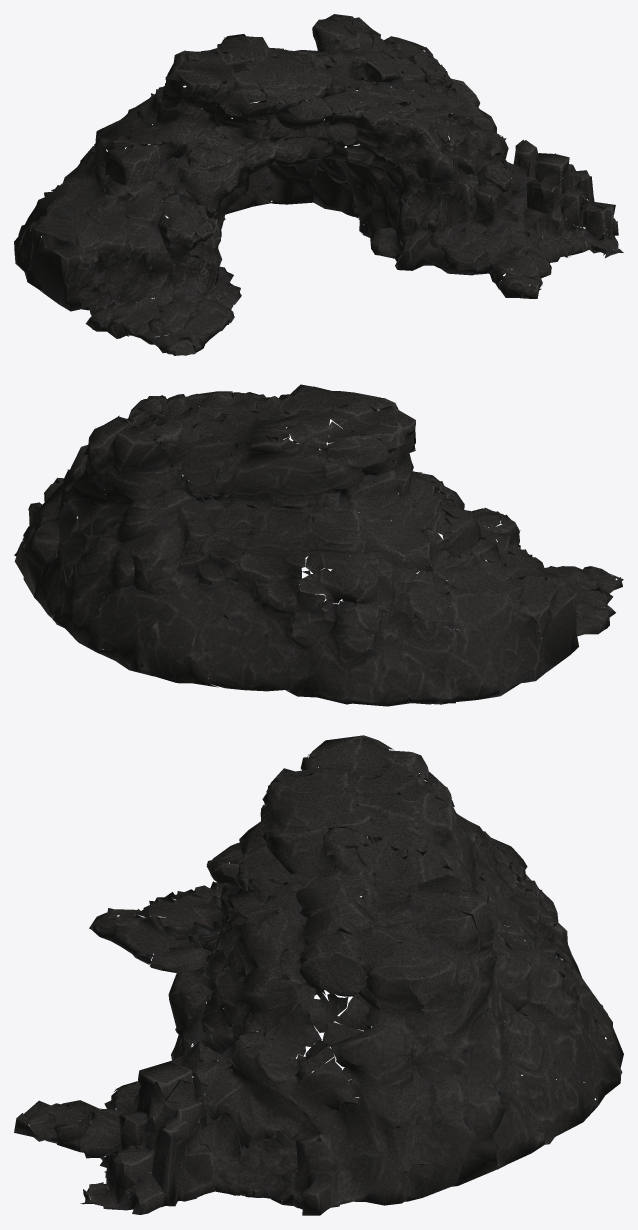
File: Basalt_Arch_town.glb
The picture shows the model from 3 angles, top to bottom: view 1: azimuth 30°, elevation 25°; view 2: azimuth 150°, elevation 25°; view 3: azimuth 270°, elevation 25°; orthographic projection. The views are drawn at different scales.
Parts seen in each view (by area): view 1: Basalt_Arch; view 2: Basalt_Arch; view 3: Basalt_Arch.
Part boxes in pixels (box(x1,y1,x2,y2)): Basalt_Arch: box(14, 14, 623, 355); Basalt_Arch: box(14, 384, 623, 706); Basalt_Arch: box(14, 735, 623, 1215).
Size of the model in its own units: 1.89 by 0.7018 by 1.52.
Materials: 1 (1 with a texture image).
